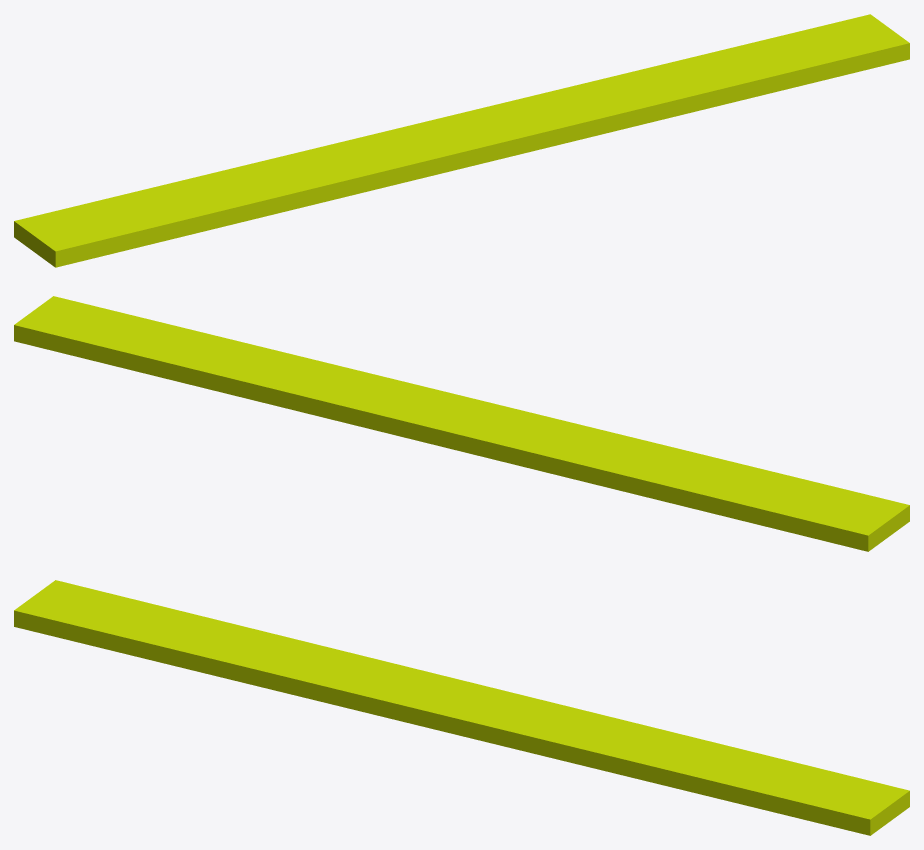
Rendered from Inlane_Vert_Long.fbx.
3 renders of one model, top to bottom at view 1: azimuth 30°, elevation 25°; view 2: azimuth 150°, elevation 25°; view 3: azimuth 330°, elevation 25°, orthographic.
Visible parts, largest first — view 1: Inlane_Vert_Long; view 2: Inlane_Vert_Long; view 3: Inlane_Vert_Long.
Boxes of the visible parts, box(x1,y1,x2,y2) form: Inlane_Vert_Long: box(14, 14, 909, 267); Inlane_Vert_Long: box(14, 296, 909, 551); Inlane_Vert_Long: box(14, 580, 909, 835).
Size of the model in its own units: 11.71 by 0.2131 by 0.9889.
